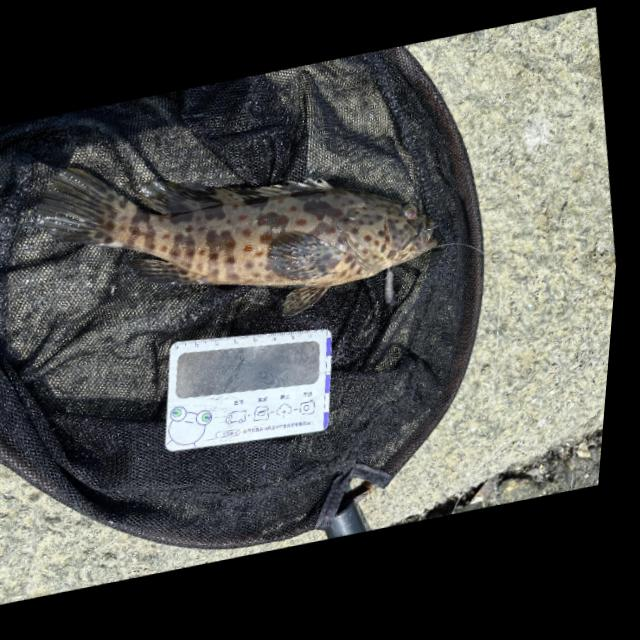Groupers: (20, 85, 464, 360)
